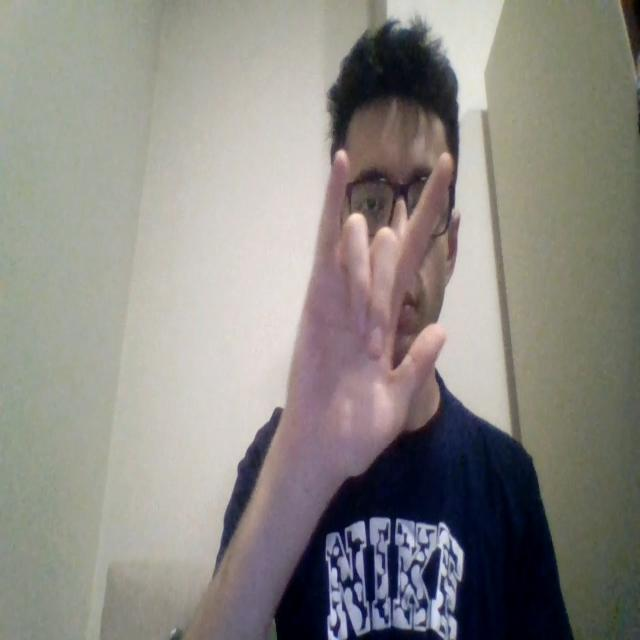iloveyou: (283, 146, 458, 480)
